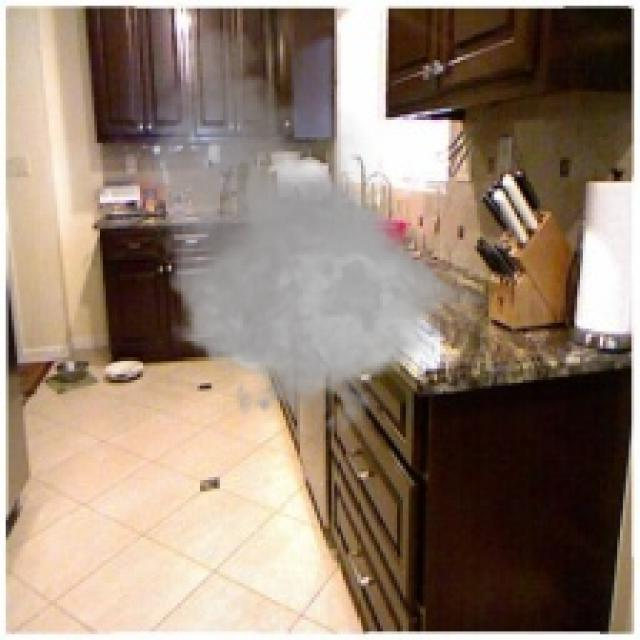Smoke: (132, 20, 494, 446)
